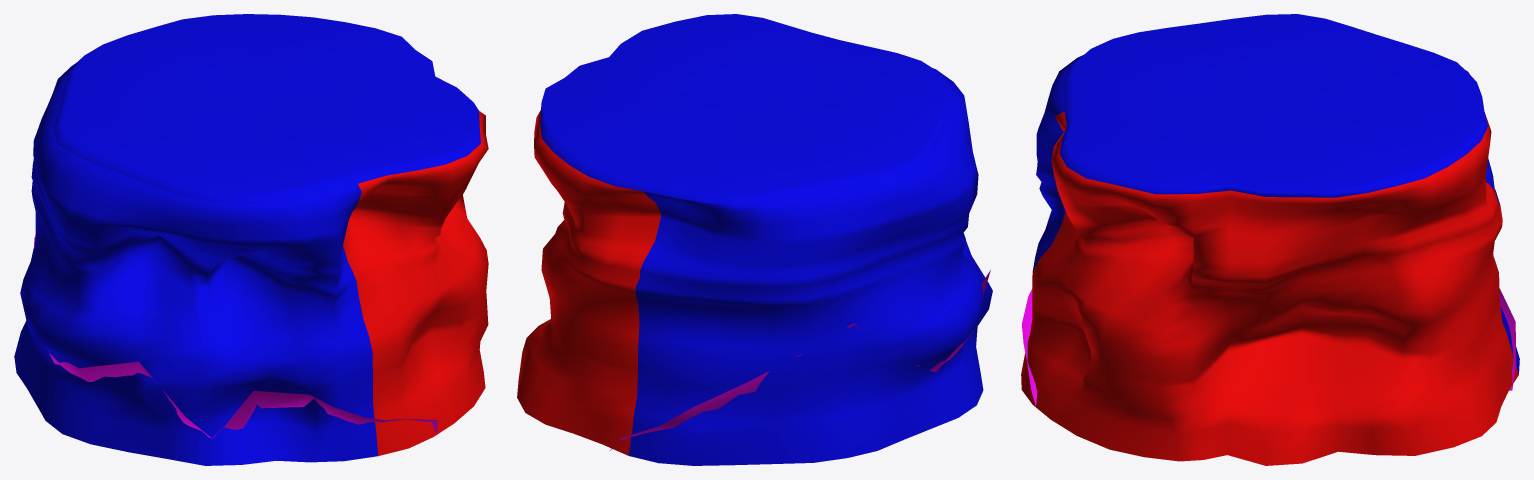
File: Level01_fbx.fbx
The picture shows the model from 3 angles, left to right: view 1: azimuth 30°, elevation 25°; view 2: azimuth 150°, elevation 25°; view 3: azimuth 270°, elevation 25°; orthographic projection. The views are drawn at different scales.
Parts seen in each view (by area): view 1: Base_LOW, BIGramp_mesh; view 2: Base_LOW, BIGramp_mesh; view 3: Base_LOW, BIGramp_mesh.
Part boxes in pixels (bbox=[...]): Base_LOW: bbox=[14, 14, 488, 465]; BIGramp_mesh: bbox=[34, 237, 437, 438]; Base_LOW: bbox=[517, 14, 992, 465]; BIGramp_mesh: bbox=[610, 270, 990, 450]; Base_LOW: bbox=[1021, 14, 1519, 465]; BIGramp_mesh: bbox=[1022, 288, 1516, 406].
Size of what is drawn, in the model's own units: 12802 by 8294 by 13232.
